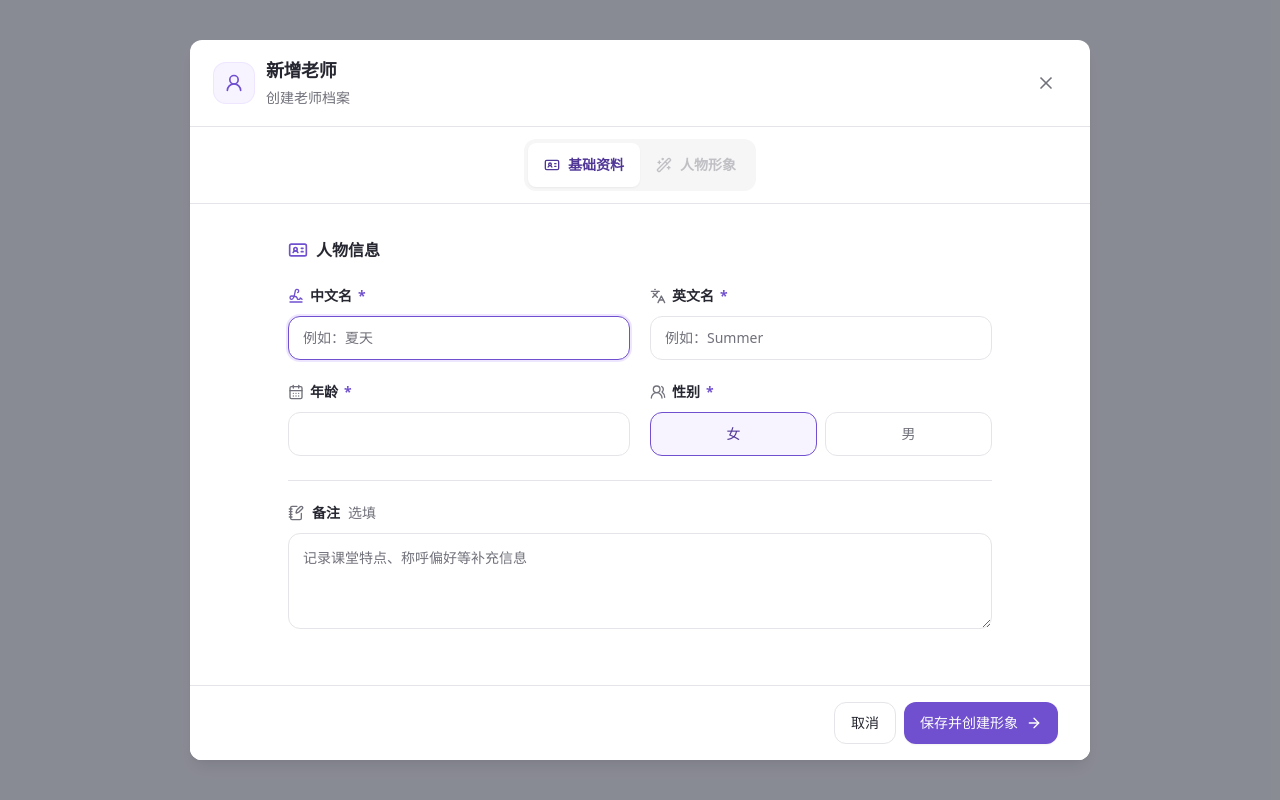
PersonEditorDialog › keeps a newly created person open and explains that visual creation is next
Step 1. Type "林老师" into the field labelled "中文名 *" → [459, 338], box [288, 316, 630, 360]
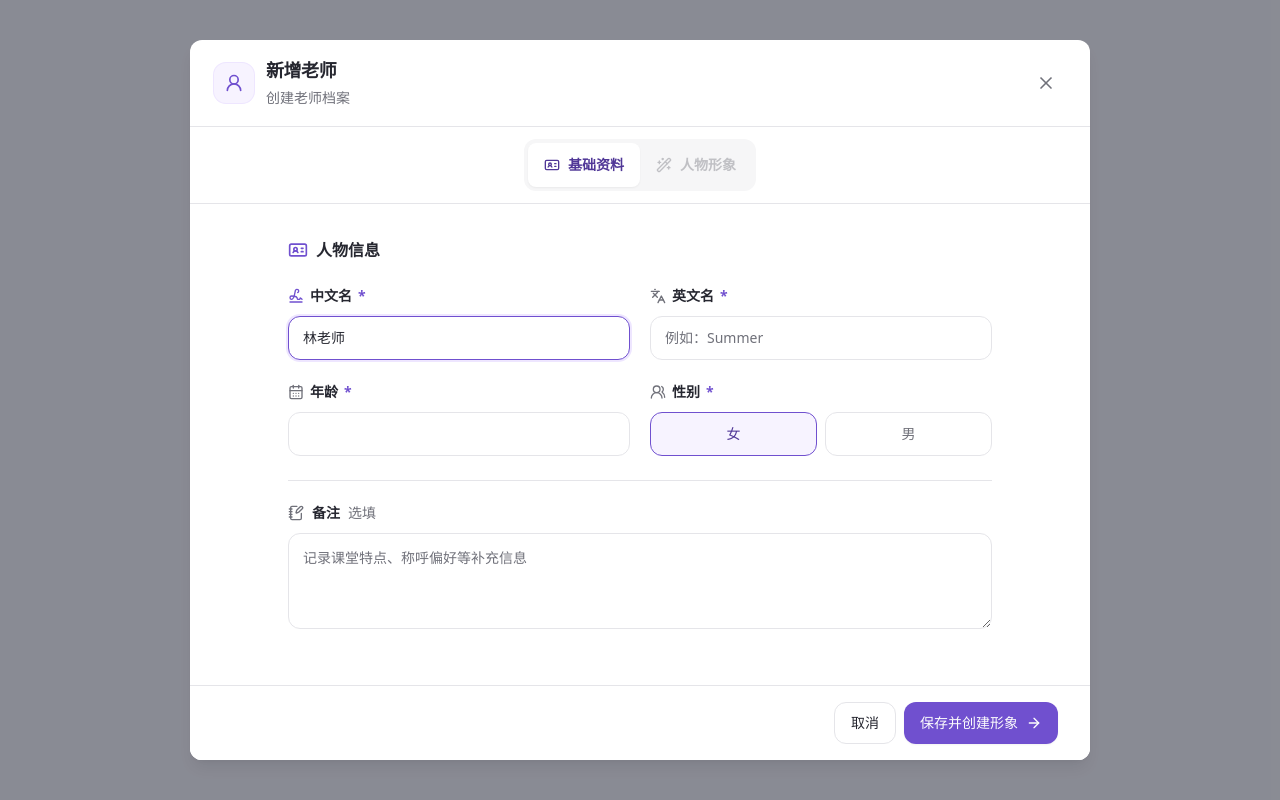
Step 2. Type "Ms. Lin" into the field labelled "英文名 *" → [821, 338], box [650, 316, 992, 360]
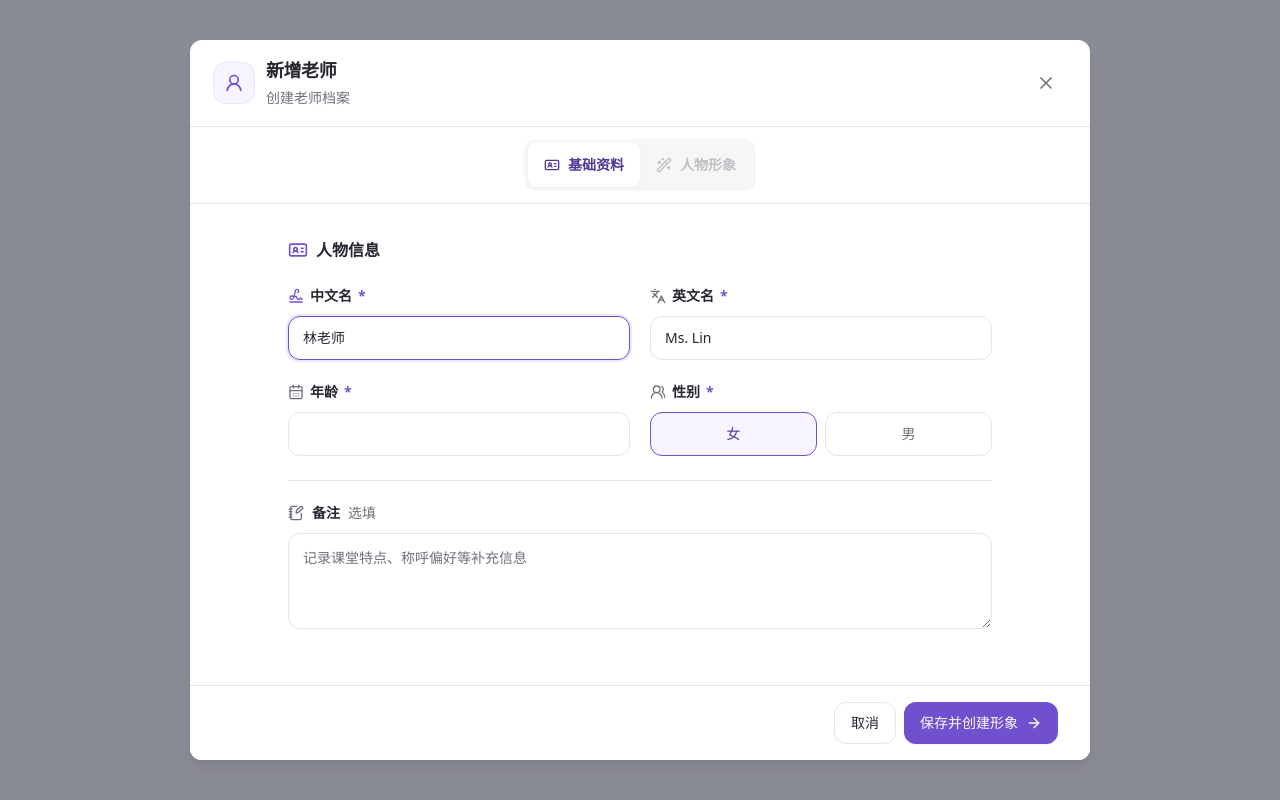
Step 3. Type "32" into the number field labelled "年龄 *" → [459, 434], box [288, 412, 630, 456]
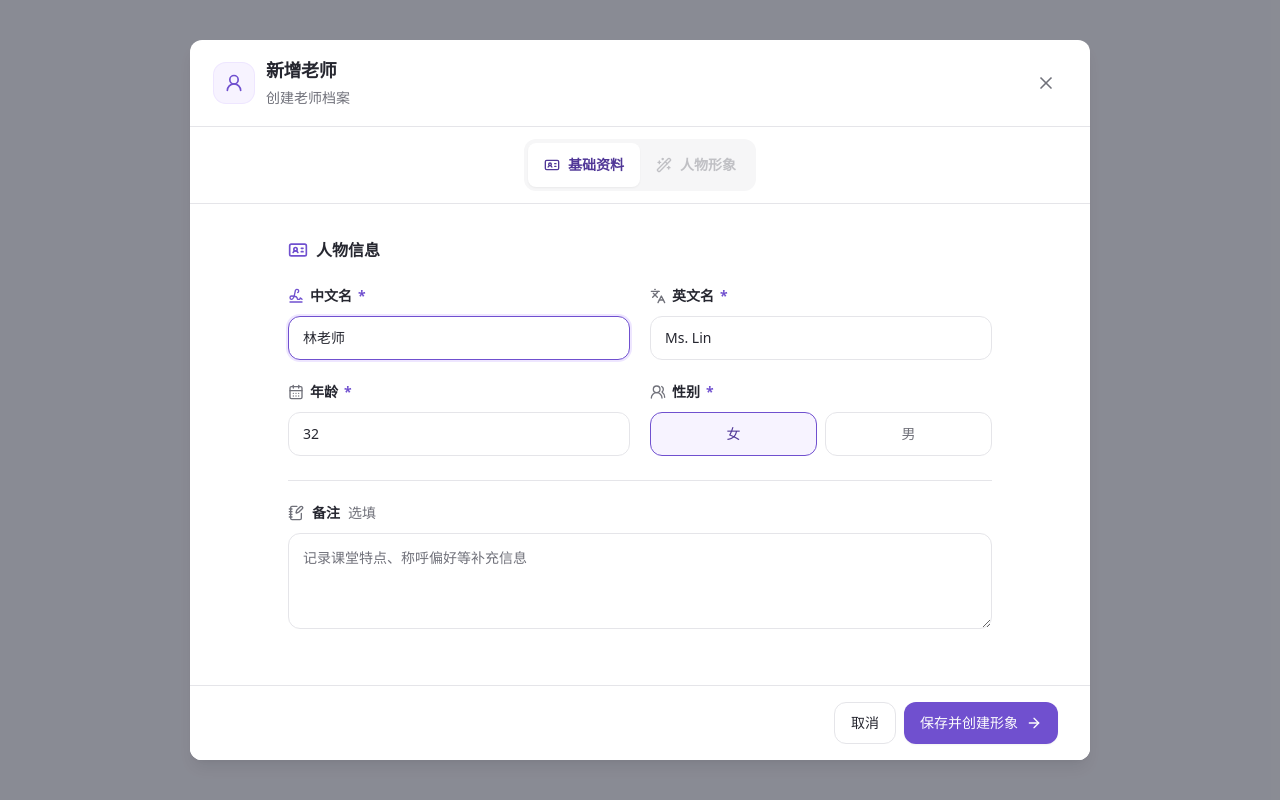
Step 4. Click the button "保存并创建形象" → [981, 723], box [904, 702, 1058, 744]
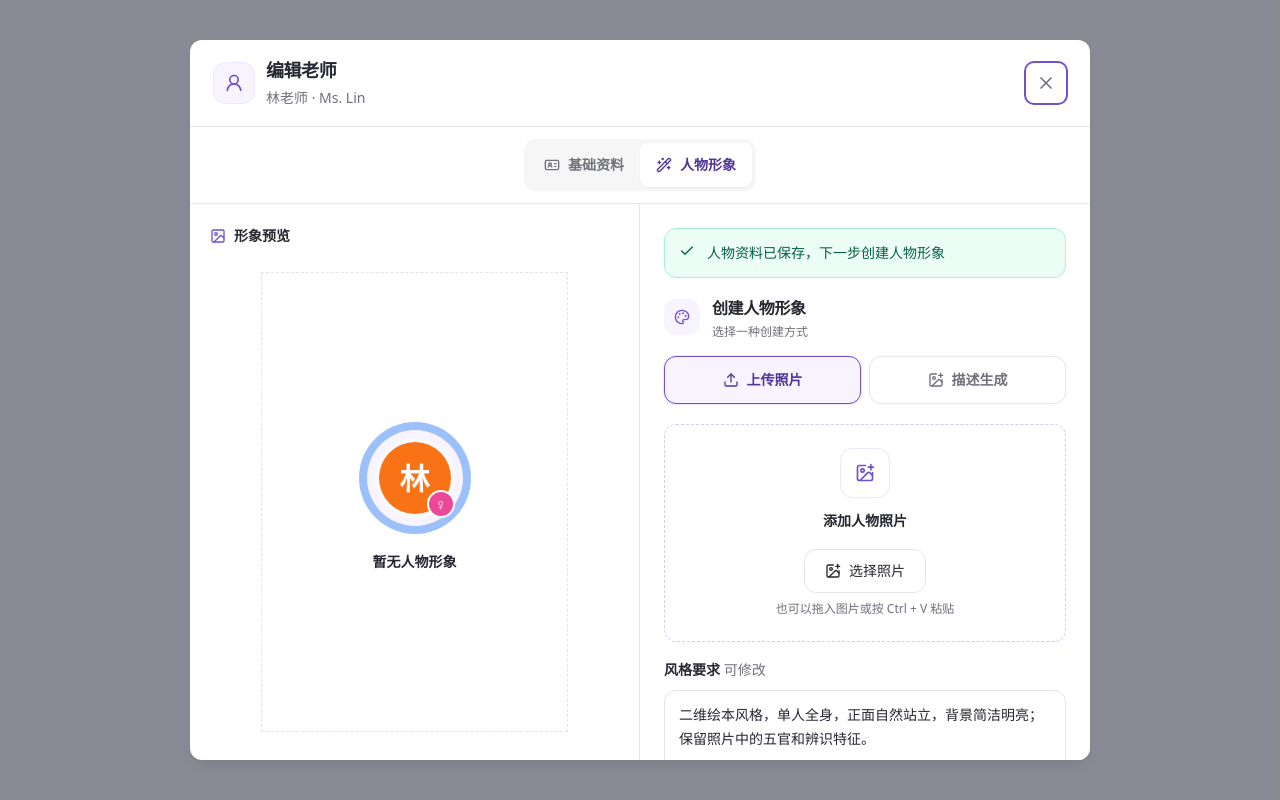
Expected: the text "人物资料已保存，下一步创建人物形象" is shown, [707, 241, 945, 265]
